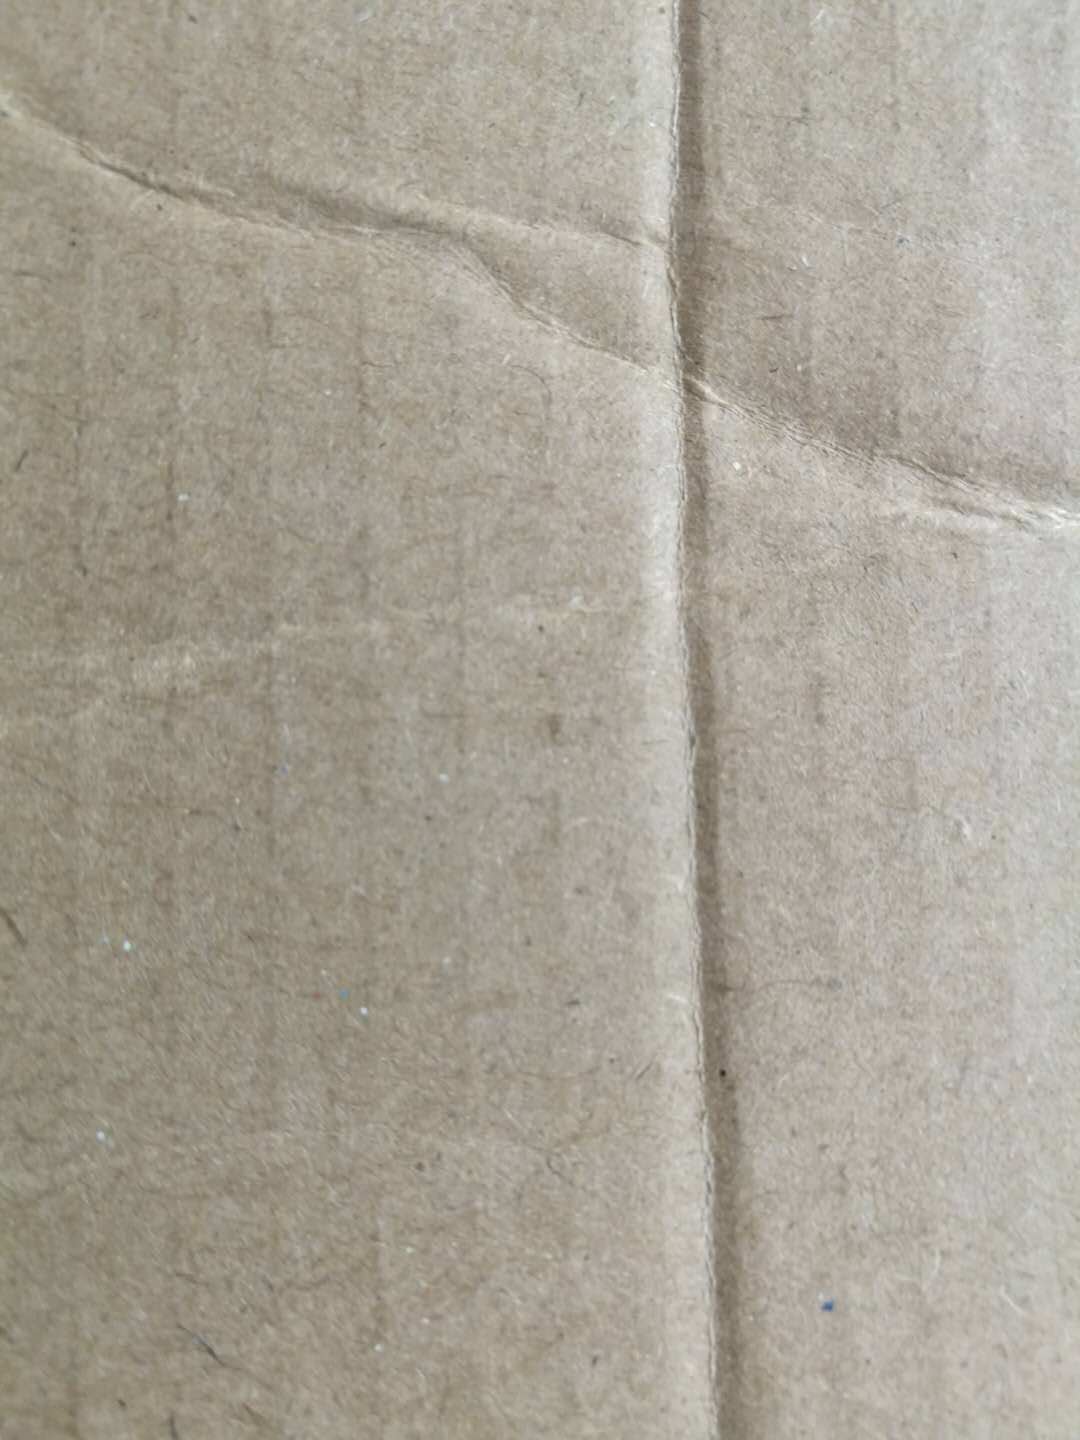defect: (5, 18, 1080, 706), (625, 2, 803, 1438)
